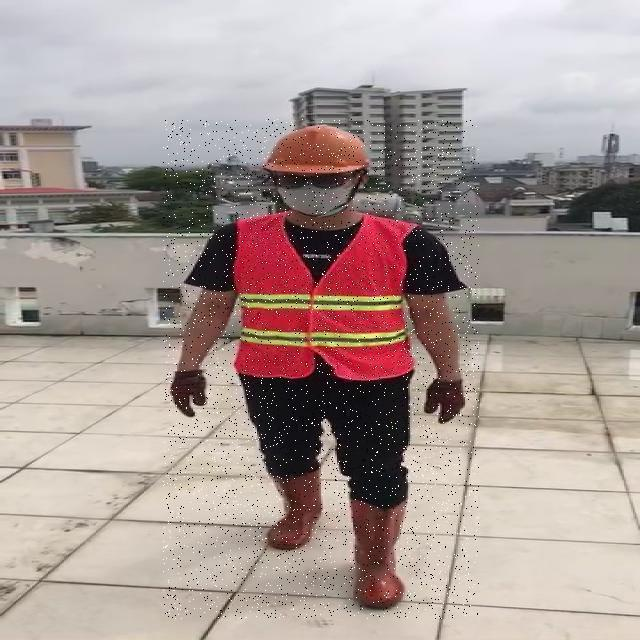gloves: (424, 374, 465, 425), (168, 369, 208, 418)
goggles: (270, 172, 352, 192)
helmet: (253, 119, 382, 176)
safety_vest: (236, 216, 409, 380)
